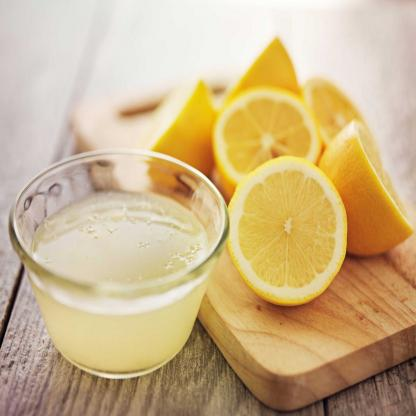--: (154, 43, 403, 319), (225, 140, 347, 348)
